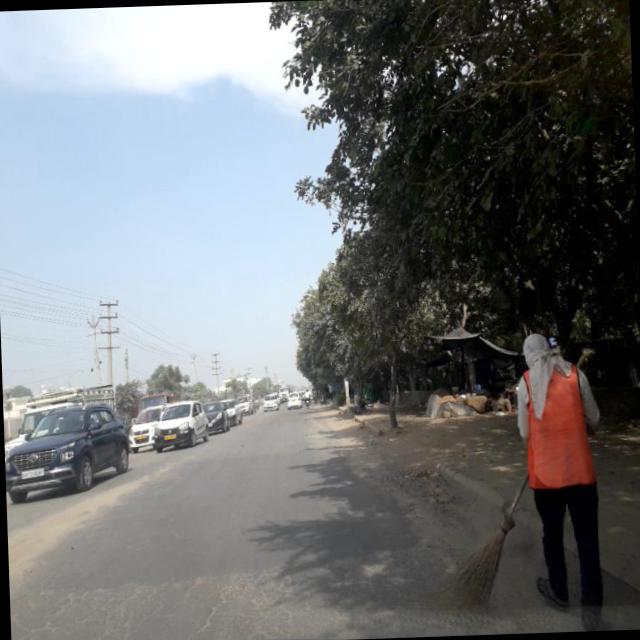crack: (9, 542, 430, 640)
